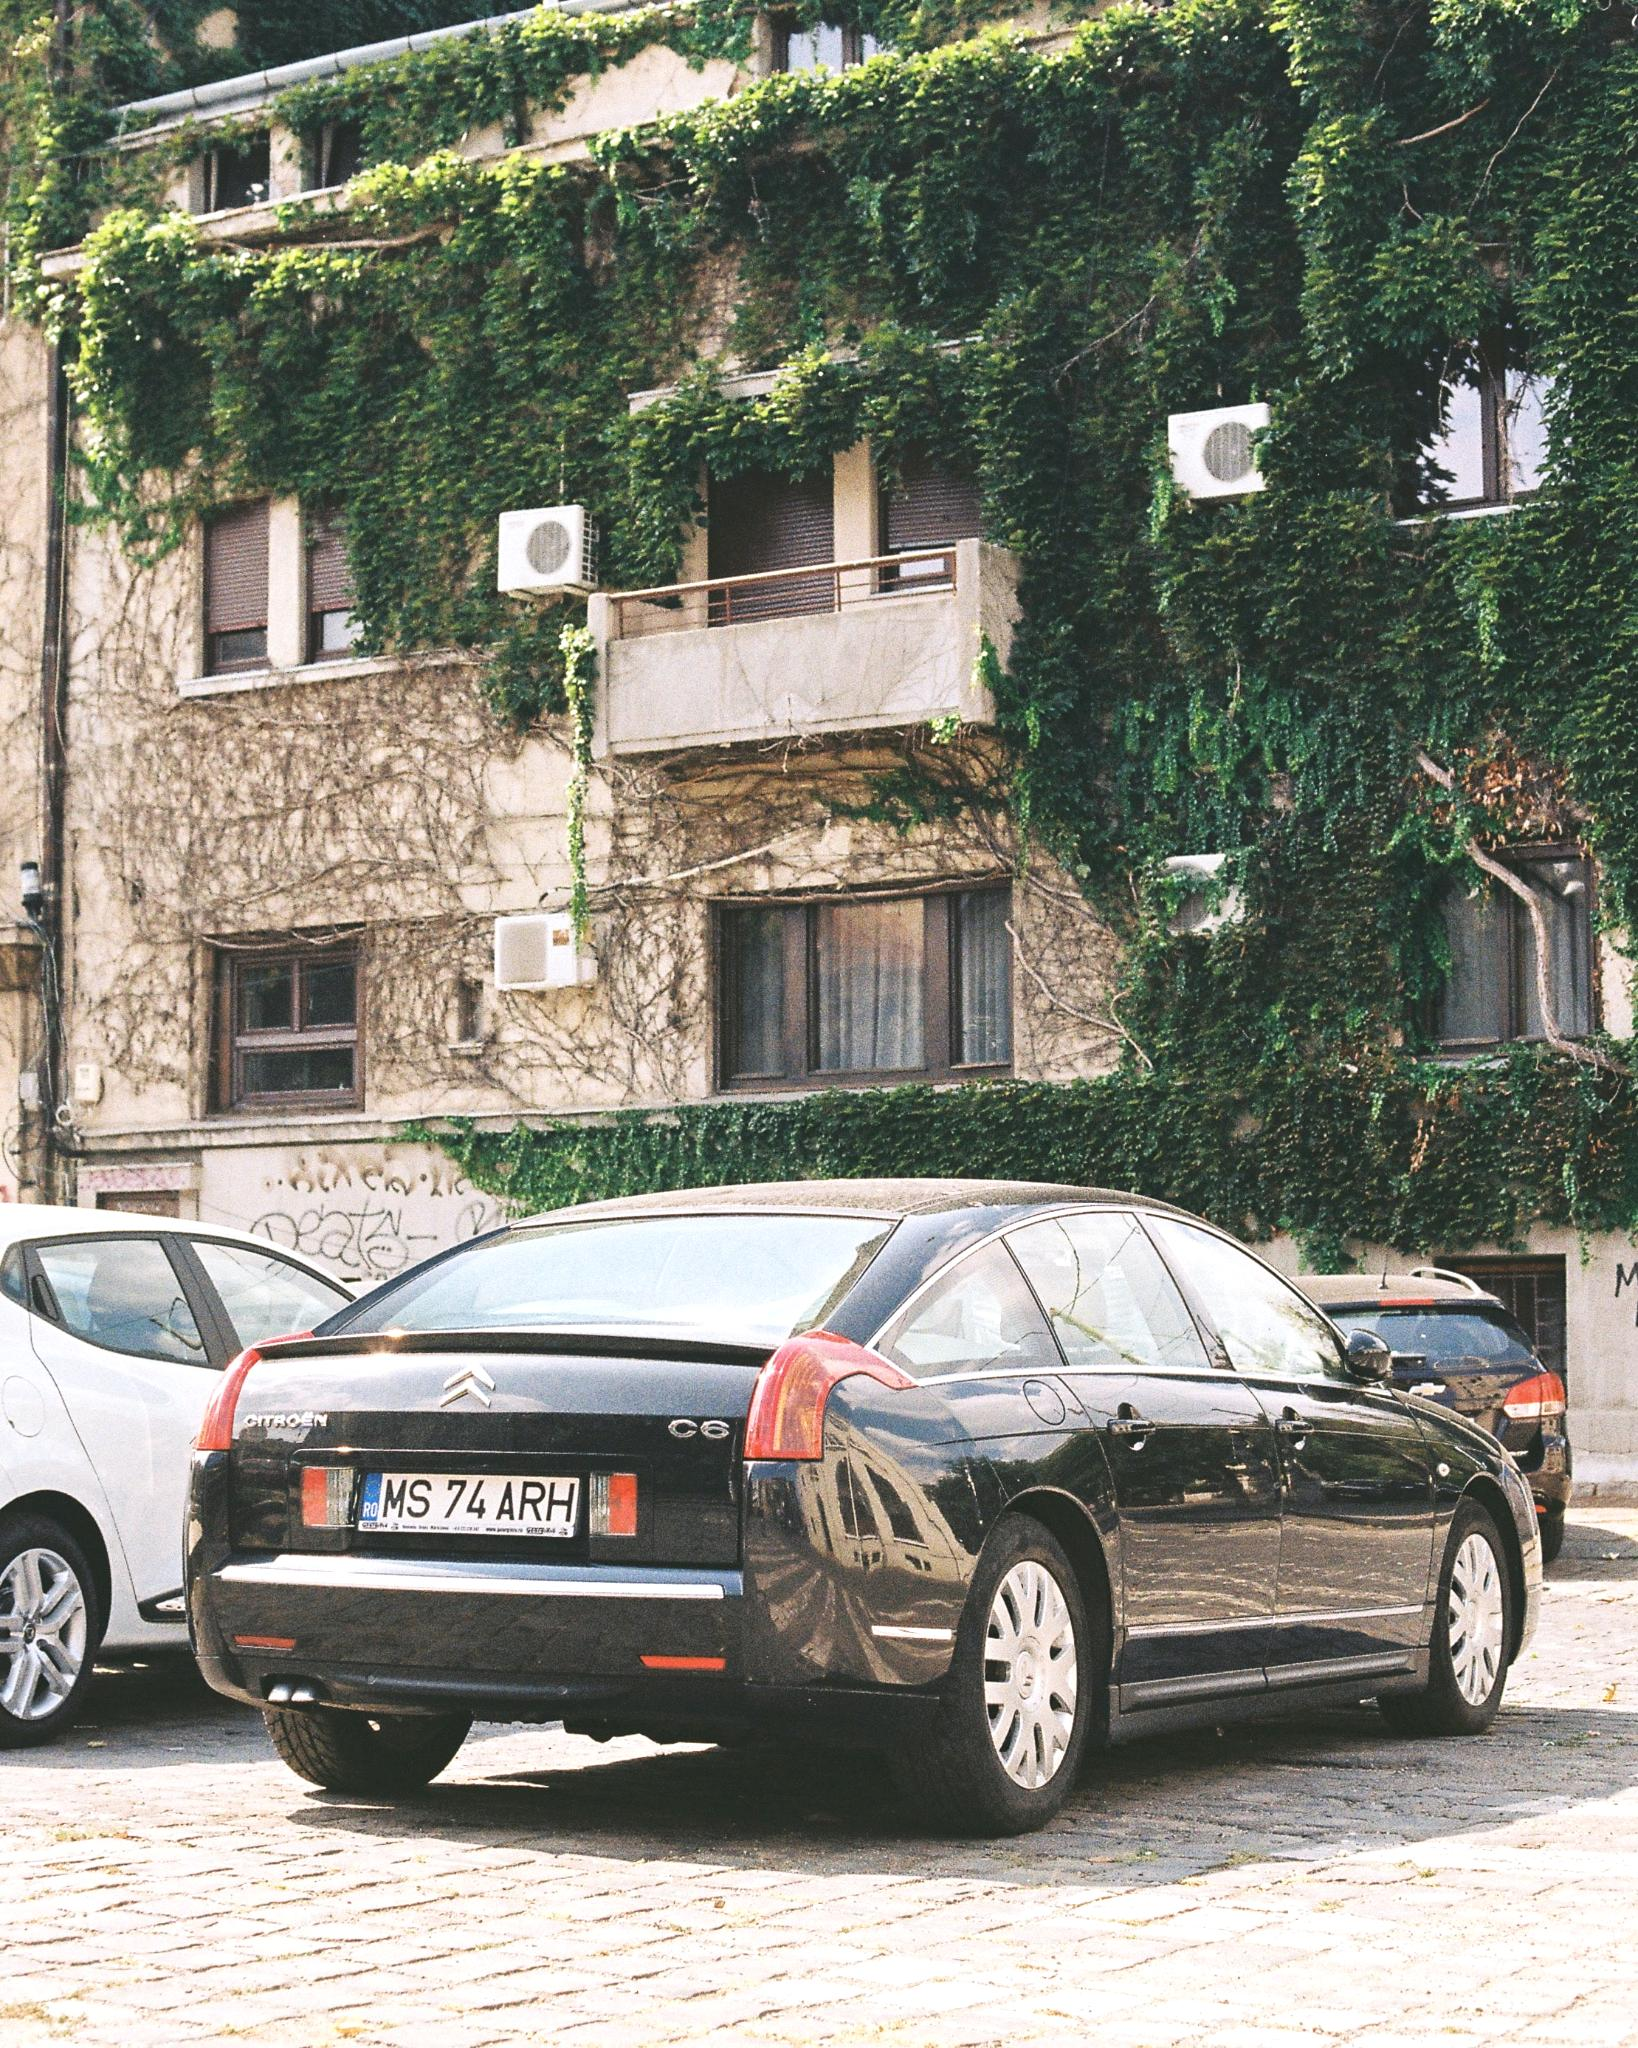Citroen: (421, 1349, 525, 1438)
chevrolet: (1397, 1361, 1461, 1421)
